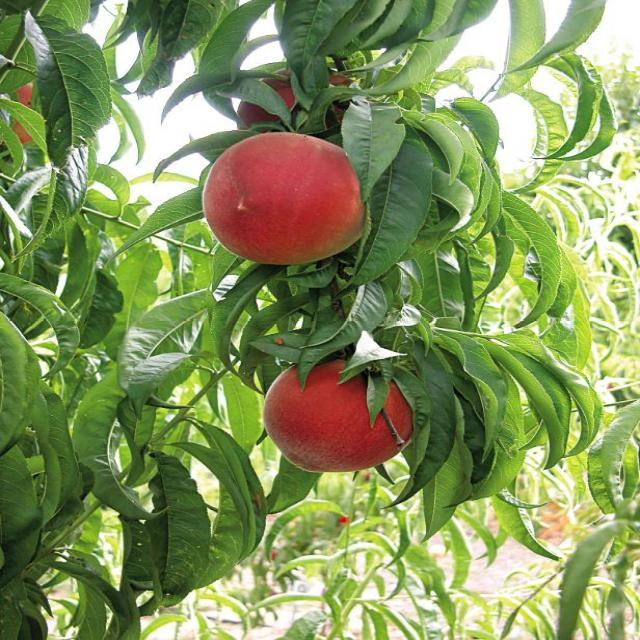Peach: (0, 0, 569, 640)
